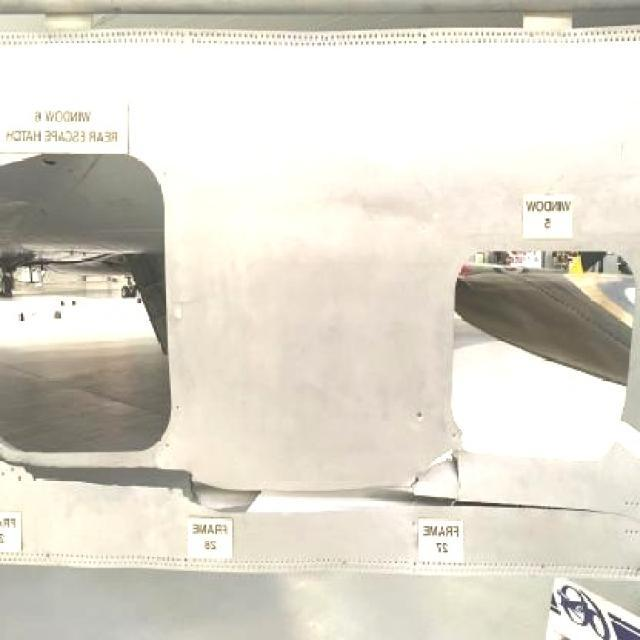crack: (463, 501, 631, 515)
